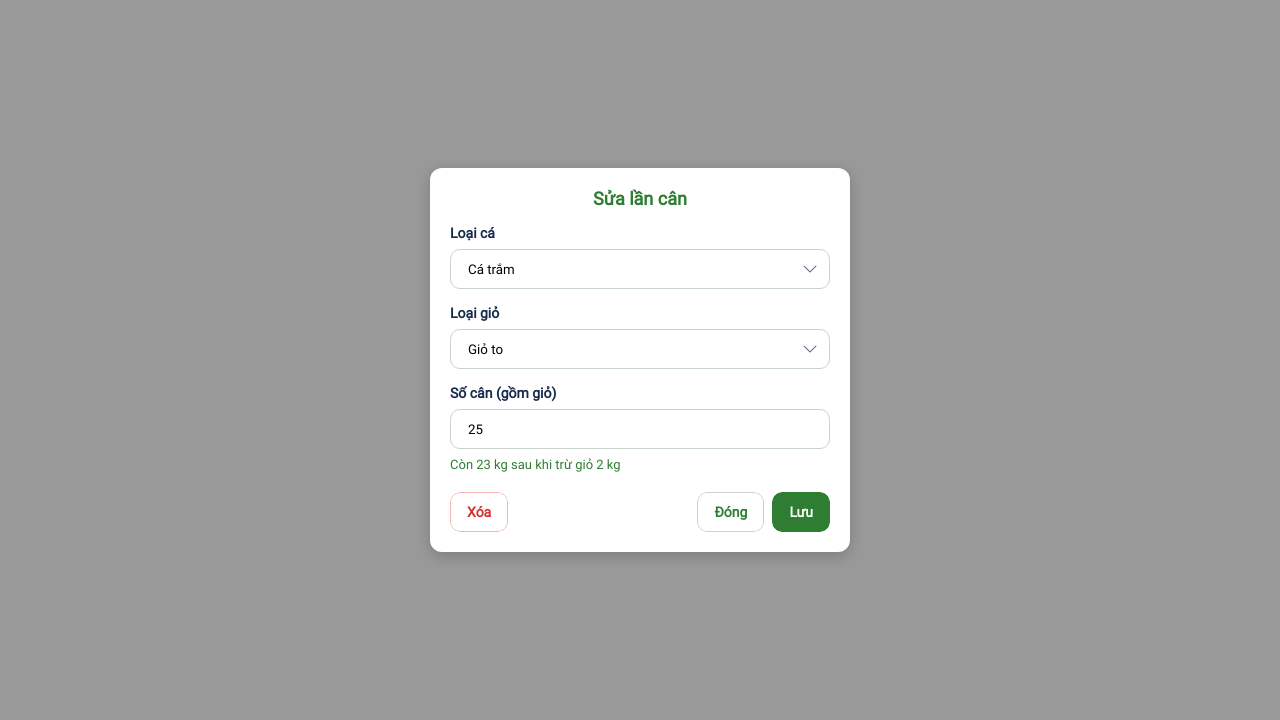
Test: số cân không hợp lệ: không gọi API
Step 1. Replace the text in the field with id "editFishWeight" with "0" → point(640, 429), box x1=452 y1=411 x2=829 y2=447
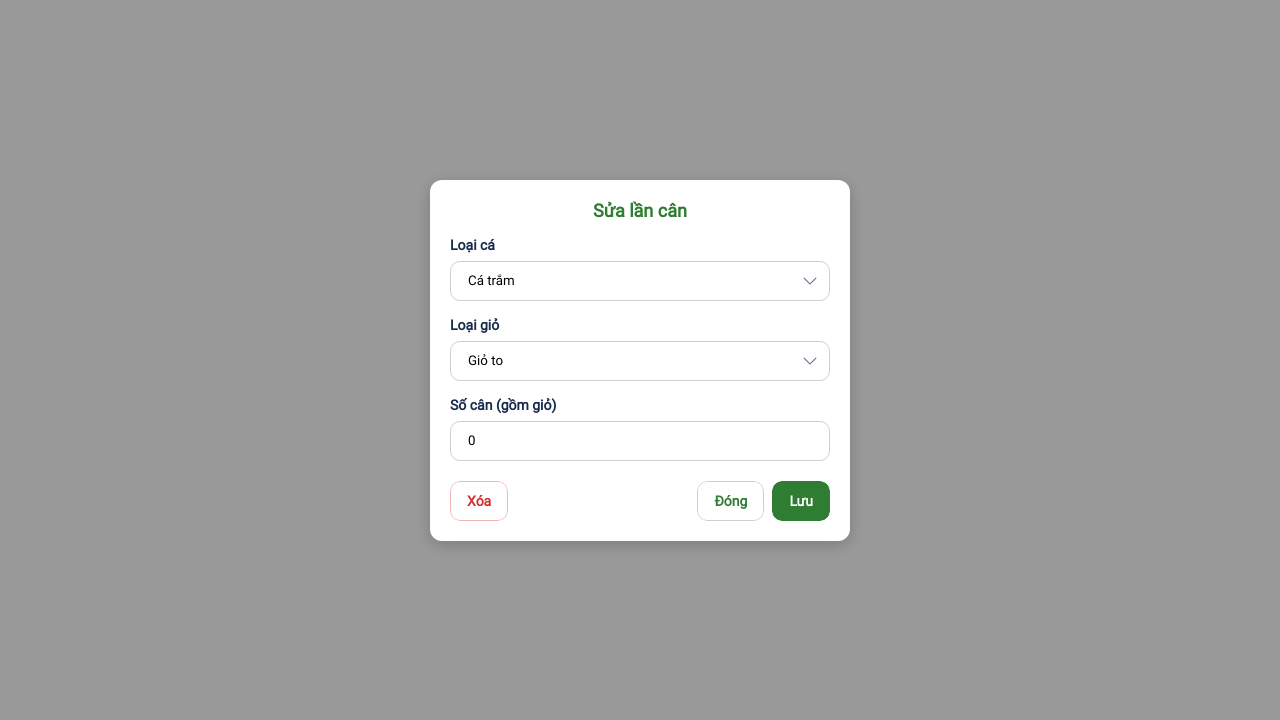
Step 2. Click the button "Lưu" → point(801, 500), box x1=772 y1=480 x2=830 y2=520
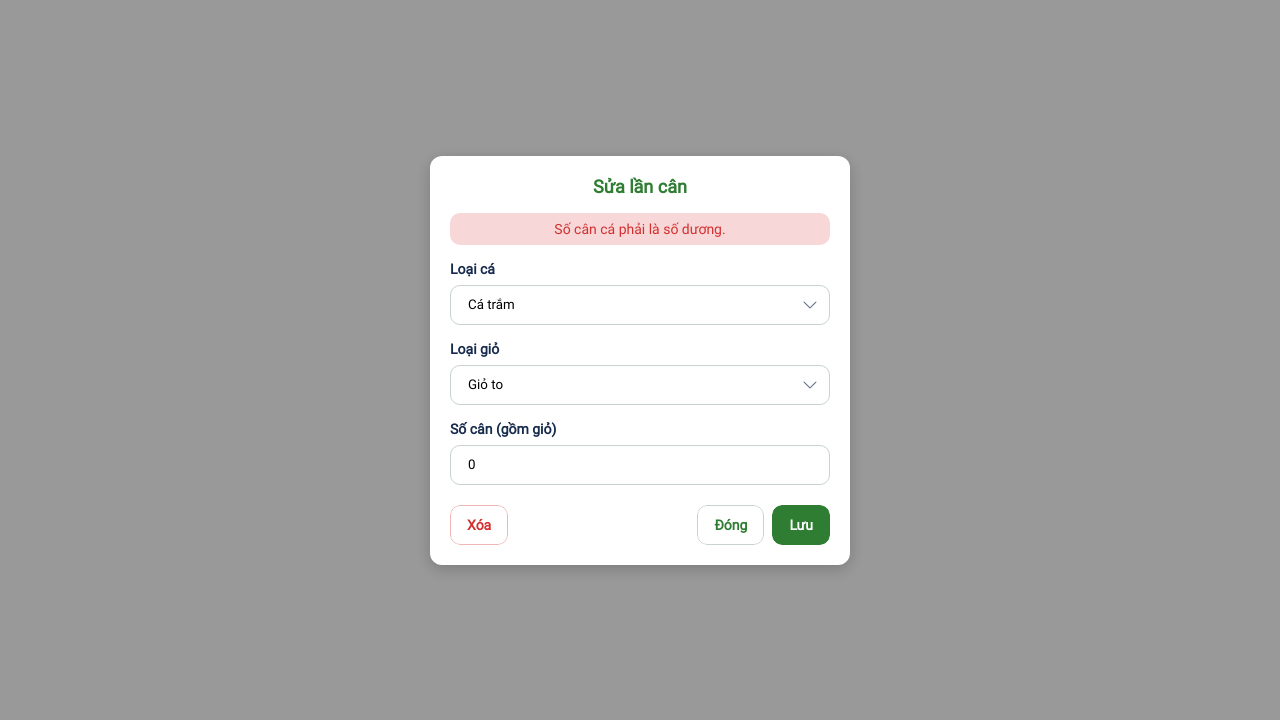
Expected: the text with class "error-message" reads "Số cân cá phải là số dương.", x1=554 y1=220 x2=726 y2=236
